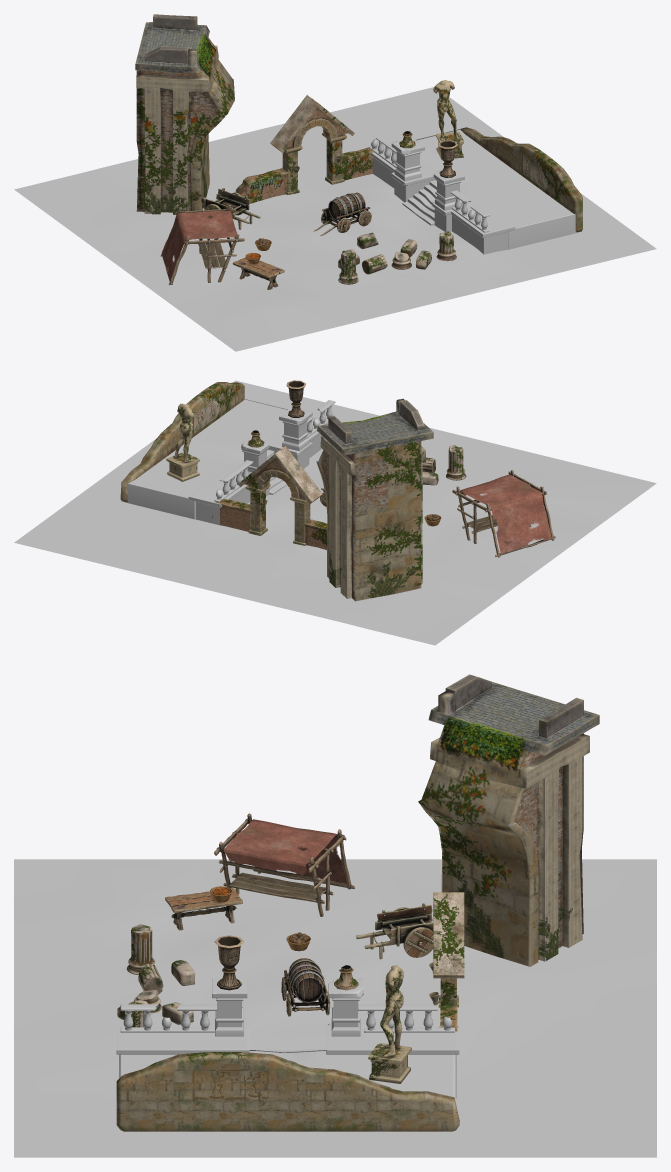
3 views of the same model, one above another, from view 1: azimuth 30°, elevation 25°; view 2: azimuth 150°, elevation 25°; view 3: azimuth 270°, elevation 25° (orthographic). The views are drawn at different scales.
Parts seen in each view (by area): view 1: Ground, Bridge, Balustrade, arch, Market, Wall, Debris, Barrel, Statue, Hand, Table, Vase; view 2: Ground, Bridge, Balustrade, Market, arch, Wall, Statue, Debris, Vase; view 3: Ground, Bridge, Wall, Balustrade, Market, arch, Debris, Statue, Hand, Barrel, Table, Vase.
Boxes of the visible parts, x1,y1,x2,y2 form: Ground: [14, 87, 656, 351]; Bridge: [135, 14, 234, 214]; Balustrade: [365, 129, 576, 254]; arch: [235, 95, 373, 203]; Market: [160, 204, 244, 284]; Wall: [460, 127, 582, 232]; Debris: [338, 231, 456, 284]; Barrel: [313, 192, 371, 235]; Statue: [433, 80, 463, 159]; Hand: [201, 188, 260, 229]; Table: [232, 257, 284, 289]; Vase: [438, 140, 457, 177]; Ground: [14, 380, 656, 645]; Bridge: [316, 398, 433, 601]; Balustrade: [127, 399, 338, 525]; Market: [452, 470, 555, 557]; arch: [212, 446, 327, 549]; Wall: [120, 382, 244, 502]; Statue: [166, 403, 199, 481]; Debris: [422, 445, 466, 485]; Vase: [286, 380, 305, 417]; Ground: [14, 859, 656, 1157]; Bridge: [418, 674, 599, 966]; Wall: [116, 1052, 459, 1131]; Balustrade: [116, 978, 459, 1098]; Market: [214, 813, 354, 916]; arch: [429, 892, 464, 1031]; Debris: [117, 924, 195, 1027]; Statue: [368, 965, 411, 1083]; Hand: [356, 903, 433, 959]; Barrel: [281, 958, 330, 1016]; Table: [165, 888, 242, 930]; Vase: [214, 935, 243, 990].
Size of the model in its own units: 4.19 by 1.62 by 3.82.
